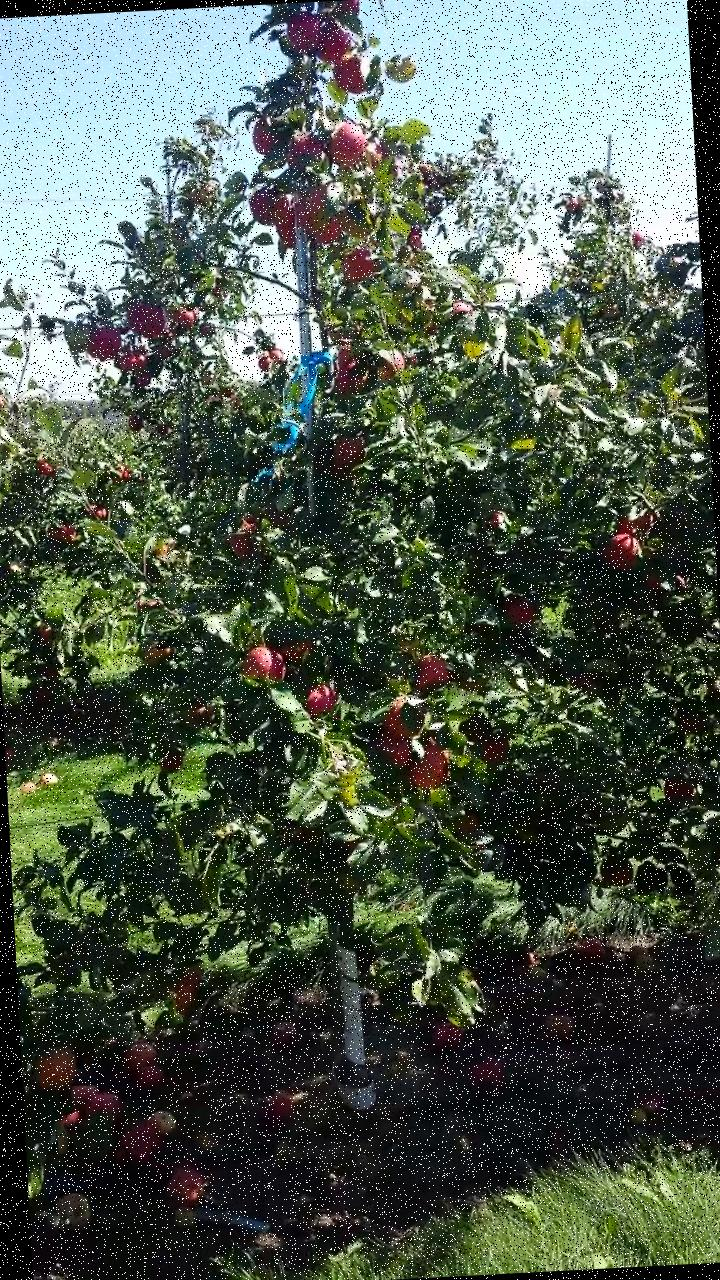Apple: (311, 12, 356, 68), (162, 958, 204, 1014), (406, 739, 450, 788), (325, 120, 370, 167), (37, 1044, 80, 1090), (285, 10, 328, 54), (602, 529, 646, 572), (411, 650, 454, 694), (125, 300, 171, 338), (248, 186, 291, 226), (241, 645, 287, 682), (333, 204, 376, 240), (379, 696, 414, 740), (286, 132, 324, 169), (371, 728, 410, 764), (615, 506, 656, 540), (334, 359, 370, 397), (297, 182, 328, 226), (226, 514, 257, 558), (336, 52, 368, 94), (306, 210, 342, 247), (250, 116, 282, 156), (87, 326, 123, 359), (332, 436, 366, 470), (303, 682, 337, 716), (504, 596, 538, 628), (662, 772, 698, 802), (274, 202, 296, 250), (341, 246, 374, 278), (602, 856, 635, 887), (378, 348, 408, 381), (478, 734, 510, 763), (569, 668, 606, 693), (278, 642, 313, 666), (142, 641, 176, 664), (183, 702, 213, 728), (674, 712, 706, 736), (330, 0, 363, 23), (646, 566, 673, 594), (455, 809, 483, 834), (156, 748, 184, 771), (336, 343, 356, 370), (484, 509, 509, 530), (360, 142, 385, 162), (450, 300, 474, 312), (714, 848, 719, 871)
